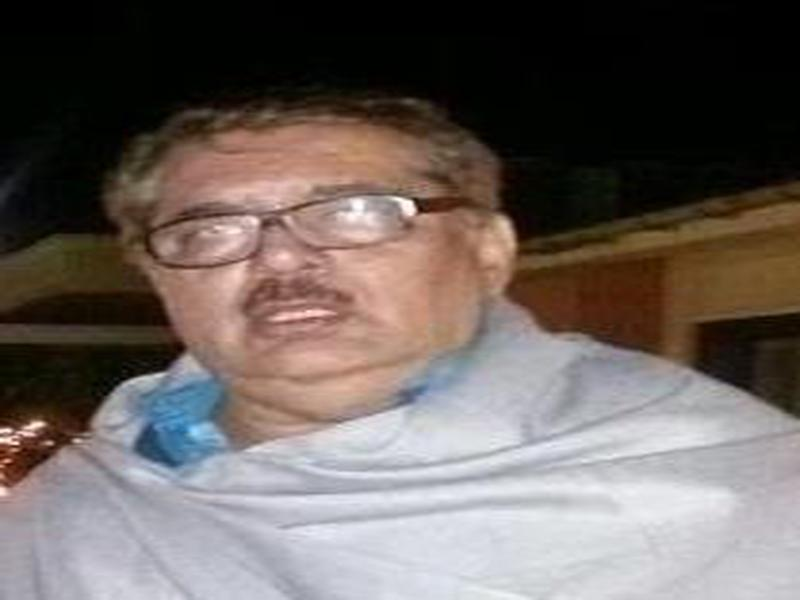without_mask: (138, 138, 472, 380)
